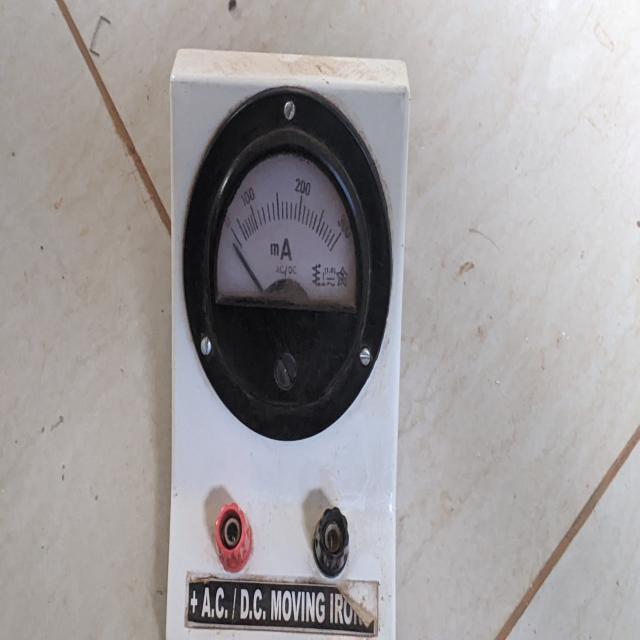Ammeter Analog: (149, 49, 415, 640)
